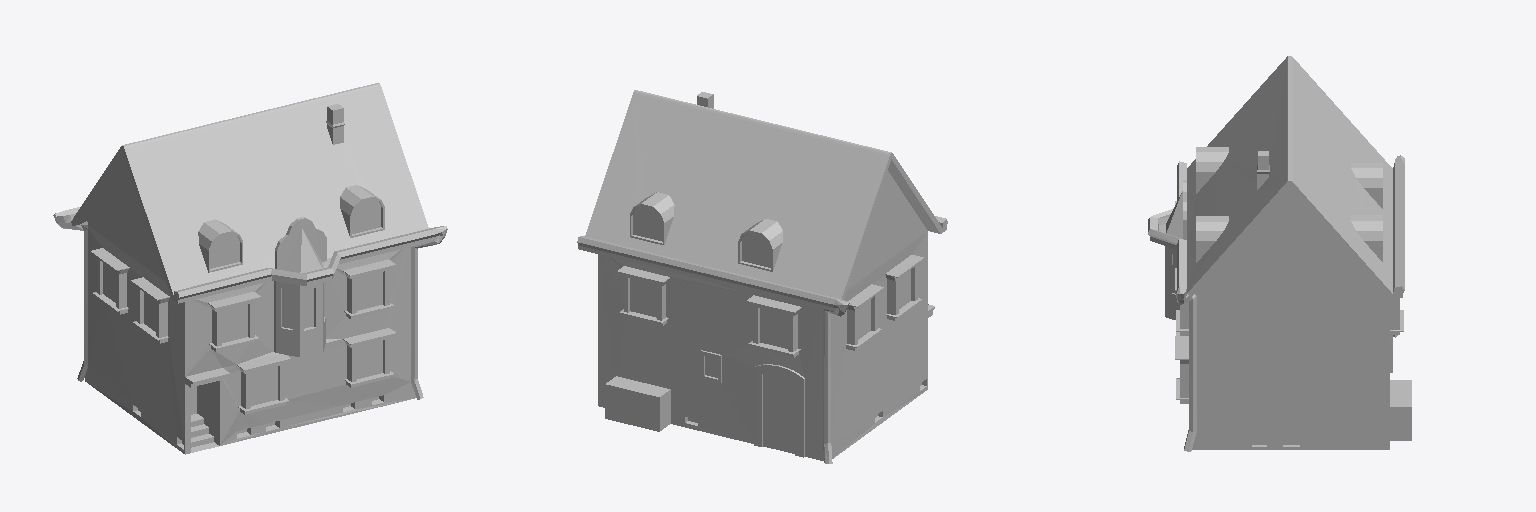
The model's file is house1.obj.
3 renders of one model, left to right at view 1: azimuth 30°, elevation 25°; view 2: azimuth 150°, elevation 25°; view 3: azimuth 270°, elevation 25°, orthographic.
Parts seen in each view (by area): view 1: house_Cube.002; view 2: house_Cube.002; view 3: house_Cube.002.
Boxes of the visible parts, box(x1,y1,x2,y2) form: house_Cube.002: box(53, 83, 447, 454); house_Cube.002: box(577, 90, 947, 463); house_Cube.002: box(1148, 56, 1411, 451).
Size of the model in its own units: 3.15 by 2.94 by 2.55.